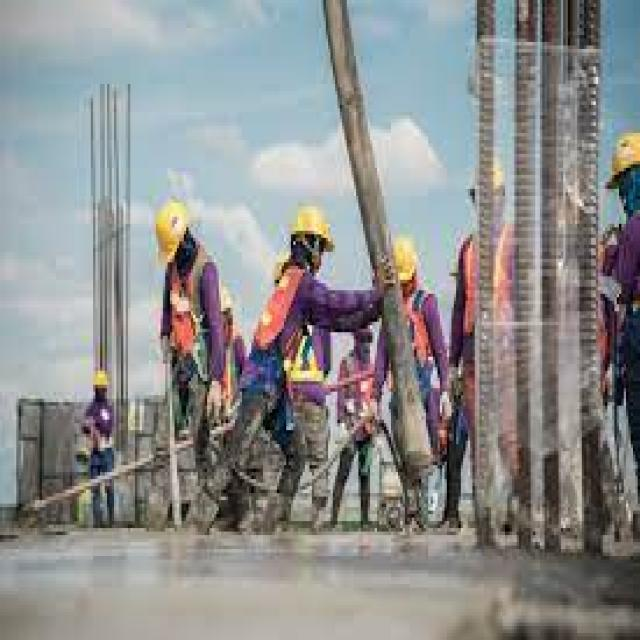Reflective-Jacket: (244, 255, 326, 409), (451, 220, 526, 354), (158, 242, 233, 368), (589, 213, 640, 371), (76, 395, 118, 465)
Safety-Helmet: (144, 189, 200, 273), (282, 192, 340, 262), (591, 119, 640, 196), (463, 150, 512, 207), (384, 227, 424, 294), (86, 360, 116, 399)
